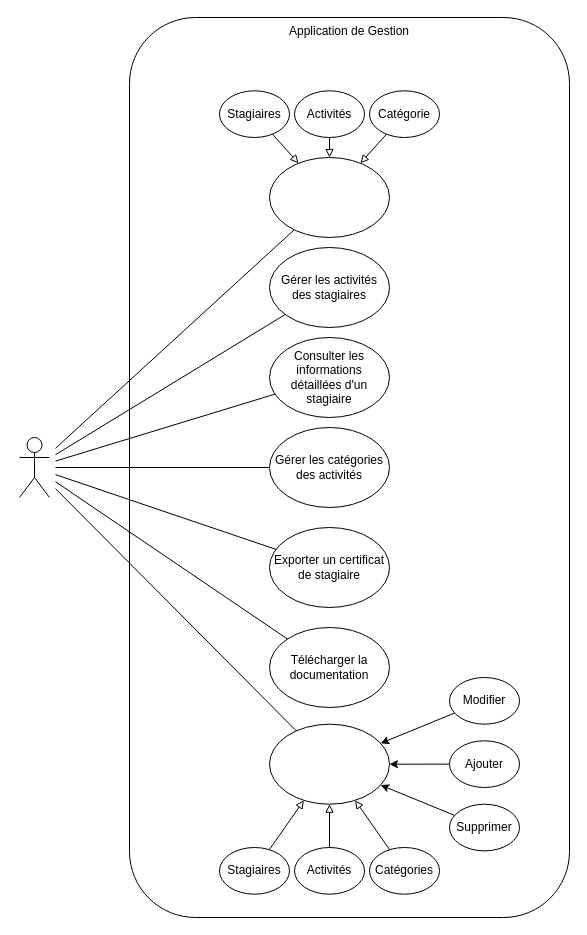
Some shapes in this 587 by 935 pixel diagram are drawn without their labels. Each missing label, with the centre of its shape:
"Admin" goes at pixel 34 467.
"Consulter une liste" goes at pixel 329 197.
"Gérer" goes at pixel 329 763.
